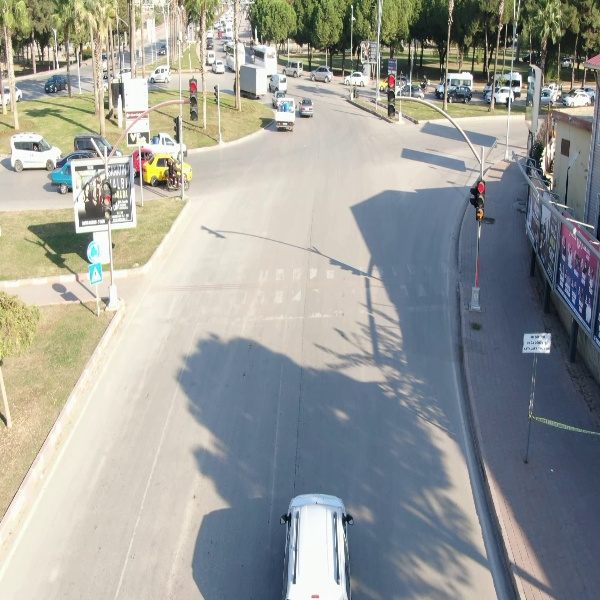car: (4, 133, 65, 175), (483, 85, 515, 108), (40, 70, 69, 95), (442, 86, 474, 104), (308, 65, 337, 83), (148, 65, 173, 85), (562, 90, 589, 108), (344, 69, 369, 87), (280, 60, 303, 78), (298, 95, 315, 119)
